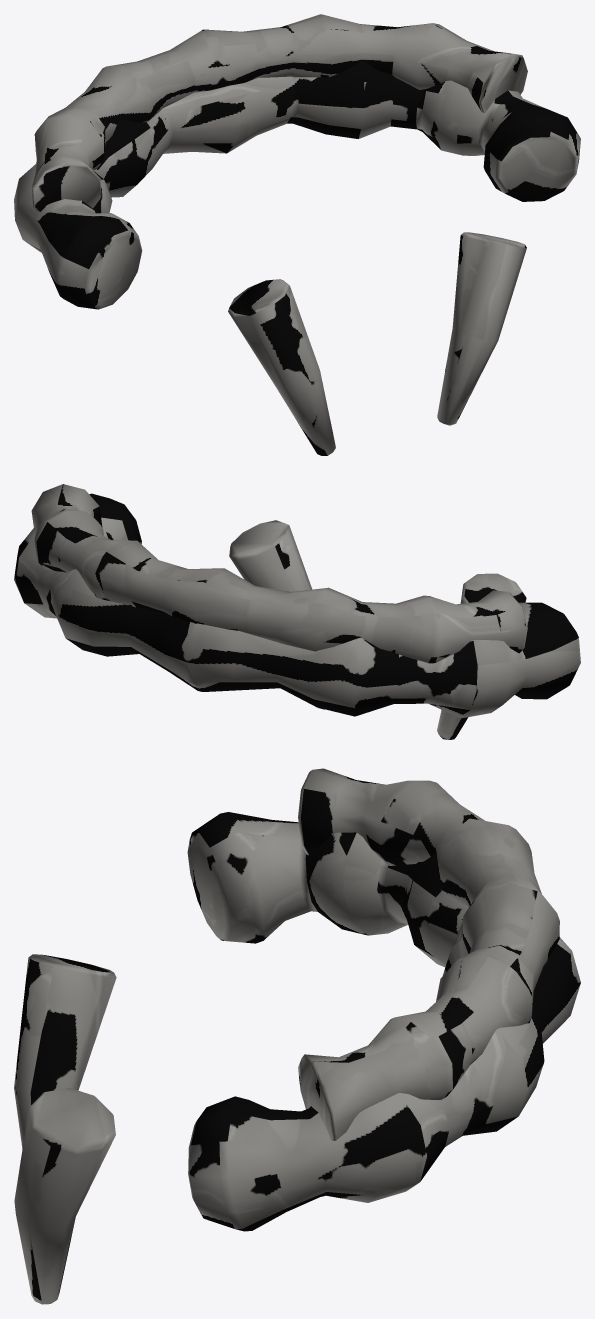
The model's file is Albatros_Abrigo_PielGris.fbx.
3 views of the same model, one above another, from view 1: azimuth 30°, elevation 25°; view 2: azimuth 150°, elevation 25°; view 3: azimuth 270°, elevation 25° (orthographic). The views are drawn at different scales.
Parts seen in each view (by area): view 1: Albatros_Abrigo_PielGris; view 2: Albatros_Abrigo_PielGris; view 3: Albatros_Abrigo_PielGris.
Boxes of the visible parts, x1,y1,x2,y2 form: Albatros_Abrigo_PielGris: (14,14,580,455); Albatros_Abrigo_PielGris: (14,484,580,739); Albatros_Abrigo_PielGris: (14,768,580,1304).
Bounding box in the file's own units: 3.09 × 1.59 × 2.16.
